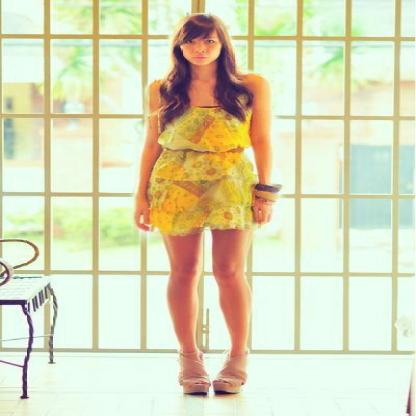dress: (151, 108, 258, 241)
shoe: (179, 364, 245, 397)
